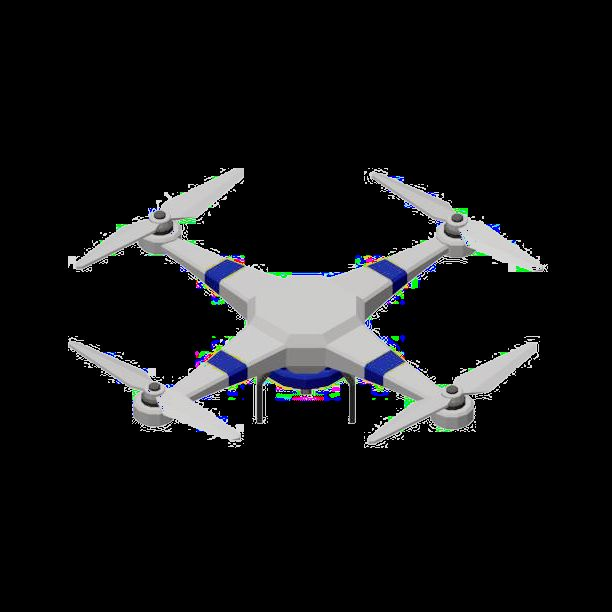Drone: (60, 164, 552, 471)
